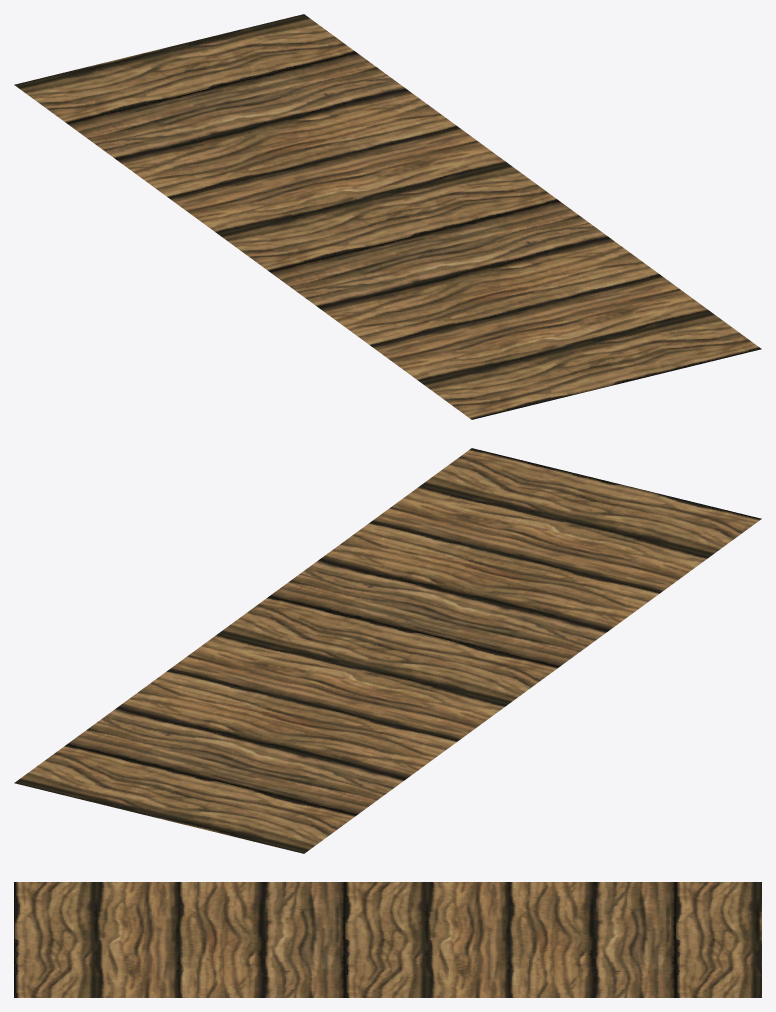
Rendered from LAKETOWN_EXTERIOR_PS_LT_OBJECT171.fbx.
3 views of the same model, one above another, from view 1: azimuth 30°, elevation 25°; view 2: azimuth 150°, elevation 25°; view 3: azimuth 270°, elevation 25° (orthographic). The views are drawn at different scales.
Parts seen in each view (by area): view 1: LAKETOWN_EXTERIOR_PS_LT_OBJECT171; view 2: LAKETOWN_EXTERIOR_PS_LT_OBJECT171; view 3: LAKETOWN_EXTERIOR_PS_LT_OBJECT171.
Boxes of the visible parts, x1,y1,x2,y2 form: LAKETOWN_EXTERIOR_PS_LT_OBJECT171: [14, 14, 761, 419]; LAKETOWN_EXTERIOR_PS_LT_OBJECT171: [14, 448, 761, 853]; LAKETOWN_EXTERIOR_PS_LT_OBJECT171: [14, 882, 761, 997].
Bounding box in the file's own units: 25084 × 3.01 × 68550.
1 material, 1 textured.
